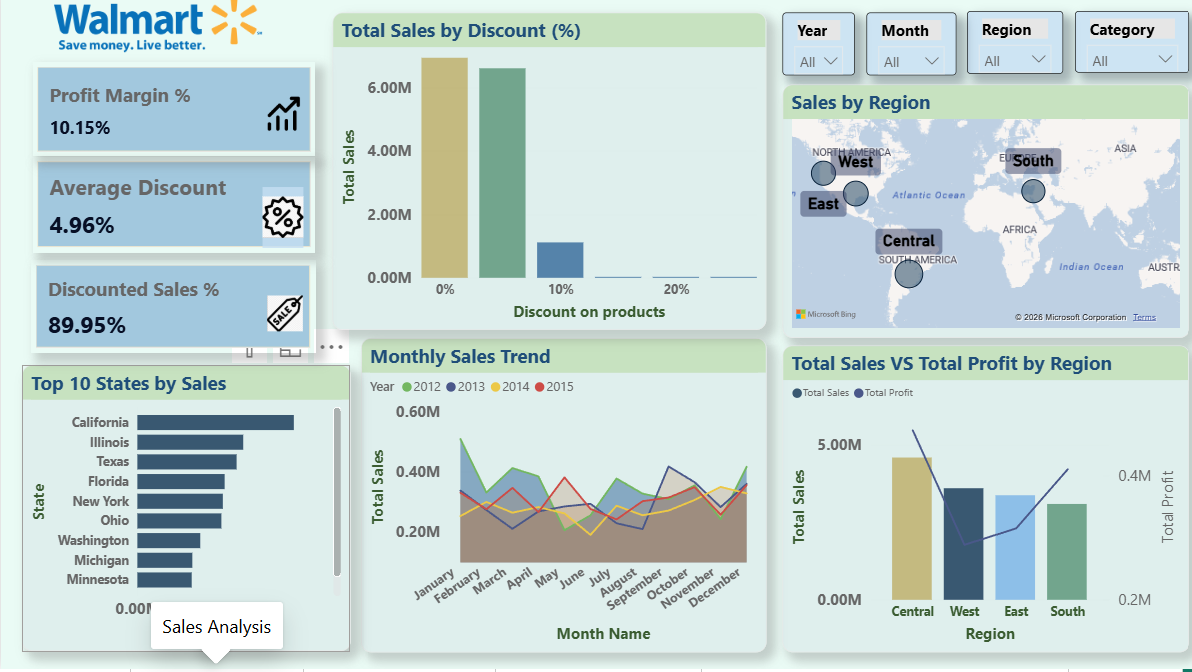

This screenshot's page, from the dashboard's own definition file:
{"tool":"powerbi","page":{"name":"Sales Analysis","canvas":[1280,720],"ordinal":1},"visuals":[{"type":"slicer","fields":{"Values":["Dim Date.Year"]},"box":[828.3,23.3,76.7,66.7],"z":0},{"type":"slicer","fields":{"Values":["walmart Retail Data.Region"]},"box":[1025,21.7,101.7,66.7],"z":1000},{"type":"slicer","fields":{"Values":["walmart Retail Data.Product Category"]},"box":[1138.3,21.7,121.7,65],"z":2000},{"type":"slicer","fields":{"Values":["Dim Date.Month Name"]},"box":[918.3,23.3,95,66.7],"z":3000},{"type":"image","box":[10.1,0,313.9,70.9],"z":4000},{"type":"lineChart","title":"Monthly Sales Trend","fields":{"Category":["Dim Date.Month Name"],"Y":["Measures for visuals.Total Sales"],"Series":["Dim Date.Year"]},"box":[381.7,368.3,430,333.3],"z":5000},{"type":"clusteredBarChart","title":"Top 10 States by Sales","fields":{"Y":["Measures for visuals.Total Sales"],"Category":["walmart Retail Data.State"]},"box":[21.7,398.3,348.3,303.3],"z":6000},{"type":"map","title":"Sales by Region","fields":{"Category":["walmart Retail Data.Region"],"Size":["Measures for visuals.Total Sales"]},"box":[828.3,100,431.7,268.3],"z":7000},{"type":"lineClusteredColumnComboChart","title":"Total Sales VS Total Profit by Region","fields":{"Category":["walmart Retail Data.Region"],"Y":["Measures for visuals.Total Sales"],"Y2":["Measures for visuals.Total Profit"]},"box":[828.3,376.7,431.7,325],"z":8000},{"type":"clusteredColumnChart","title":"Total Sales by Discount (%)","fields":{"Category":["walmart Retail Data.Discount on products"],"Y":["Measures for visuals.Total Sales"]},"box":[351.7,23.3,460,336.7],"z":9000},{"type":"cardVisual","fields":{"Data":["Measures for visuals.Average Discount"]},"box":[33.9,176.7,300,101.7],"z":10000},{"type":"cardVisual","fields":{"Data":["Measures for visuals.Profit Margin %"]},"box":[33.3,76.7,300,100],"z":11000},{"type":"cardVisual","fields":{"Data":["Measures for visuals.Discounted Sales %"]},"box":[32.2,286.7,301.7,98.3],"z":12000},{"type":"image","box":[271.7,100,53.3,61.7],"z":13000},{"type":"image","box":[277.2,300,48.3,85],"z":14000},{"type":"image","box":[272.2,203.3,53.3,75],"z":15000}]}

Visuals, with their boxes in screenshot pixels (x1, y1, x2, y2), scaled from the page's 1280x720 canvas onto the 1192x672 screenshot:
slicer - Dim Date.Year: crop(771, 22, 843, 84)
slicer - walmart Retail Data.Region: crop(955, 20, 1049, 83)
slicer - walmart Retail Data.Product Category: crop(1060, 20, 1173, 81)
slicer - Dim Date.Month Name: crop(855, 22, 944, 84)
image: crop(9, 0, 302, 66)
"Monthly Sales Trend" lineChart: crop(355, 344, 756, 655)
"Top 10 States by Sales" clusteredBarChart: crop(20, 372, 345, 655)
"Sales by Region" map: crop(771, 93, 1173, 344)
"Total Sales VS Total Profit by Region" lineClusteredColumnComboChart: crop(771, 352, 1173, 655)
"Total Sales by Discount (%)" clusteredColumnChart: crop(328, 22, 756, 336)
cardVisual - Measures for visuals.Average Discount: crop(32, 165, 311, 260)
cardVisual - Measures for visuals.Profit Margin %: crop(31, 72, 310, 165)
cardVisual - Measures for visuals.Discounted Sales %: crop(30, 268, 311, 359)
image: crop(253, 93, 303, 151)
image: crop(258, 280, 303, 359)
image: crop(253, 190, 303, 260)
